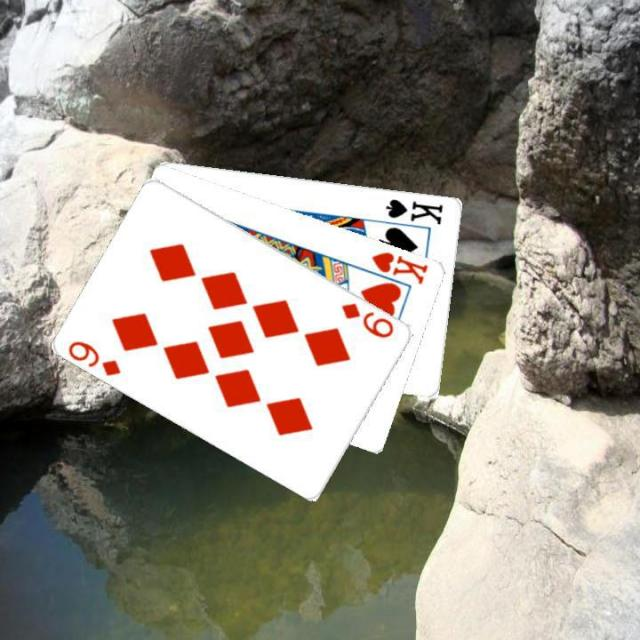9D: (64, 336, 124, 378), (338, 298, 396, 340)
KH: (368, 247, 430, 286)
KS: (382, 194, 446, 226)
